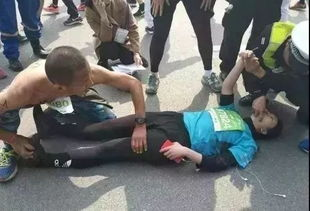10+: (1, 1, 310, 170)
down: (20, 105, 281, 178)
